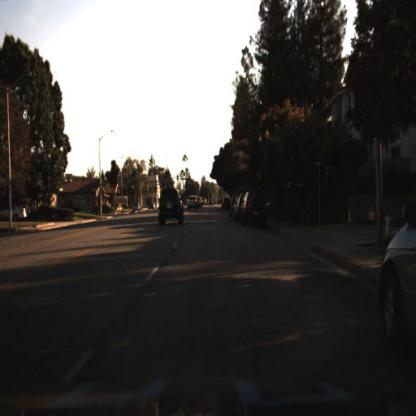car: (377, 206, 416, 354), (156, 184, 186, 227), (241, 188, 270, 224), (185, 193, 200, 215), (130, 203, 144, 217)
